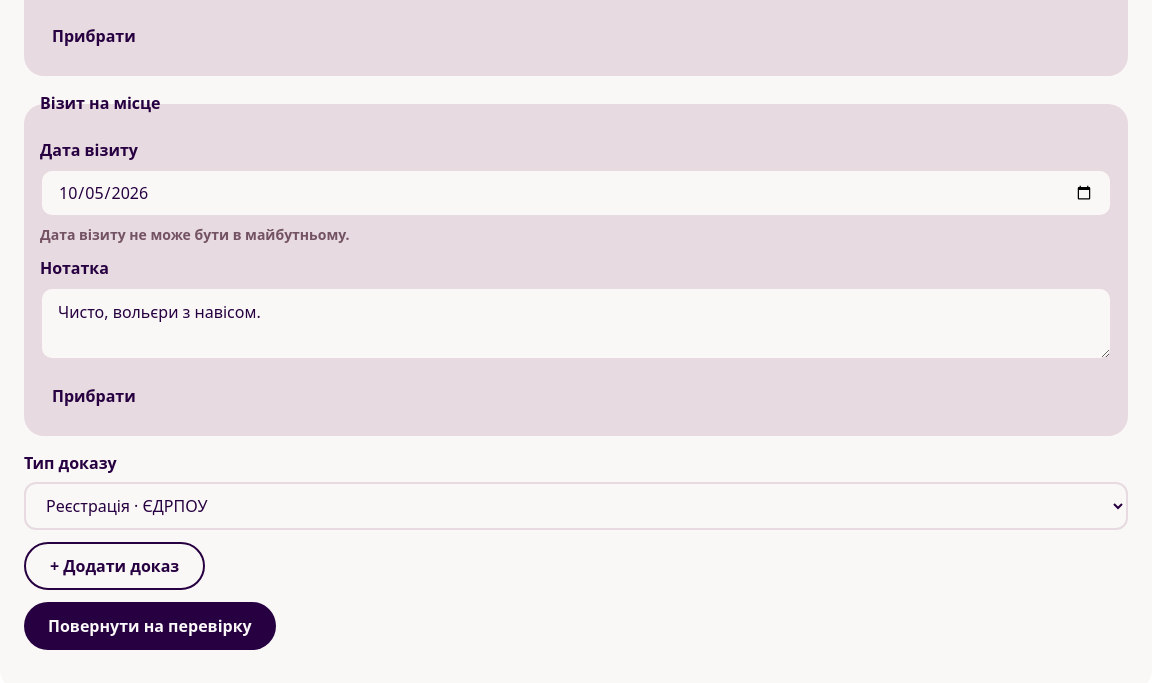
it: resubmit › a card left incomplete: nothing is sent, the field says what is missing and takes focus
(page scrolled)
Step 1. Clear the text box labelled "Нотатка" → x=576, y=324, box x1=40 y1=287 x2=1112 y2=360
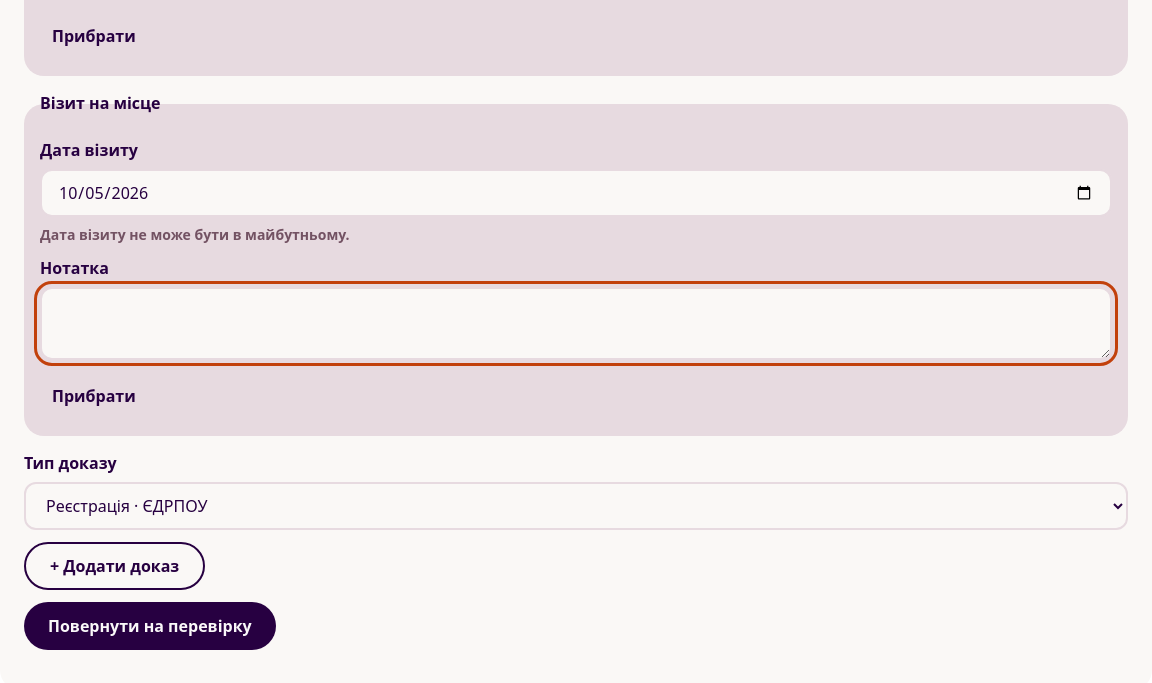
Step 2. Click the button "Повернути на перевірку" → x=150, y=626, box x1=24 y1=602 x2=276 y2=650
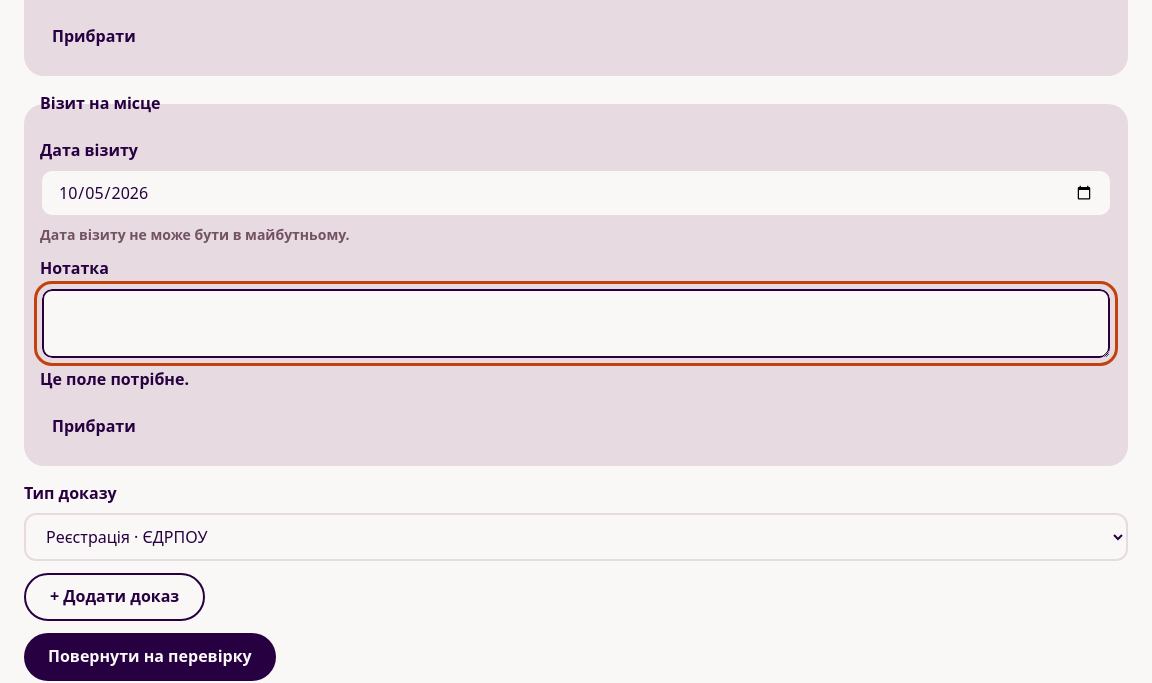
Check: the button "Повернути на перевірку" is shown, box x1=24 y1=633 x2=276 y2=681
Check: the text "Це поле потрібне." is shown, box x1=40 y1=368 x2=189 y2=390
